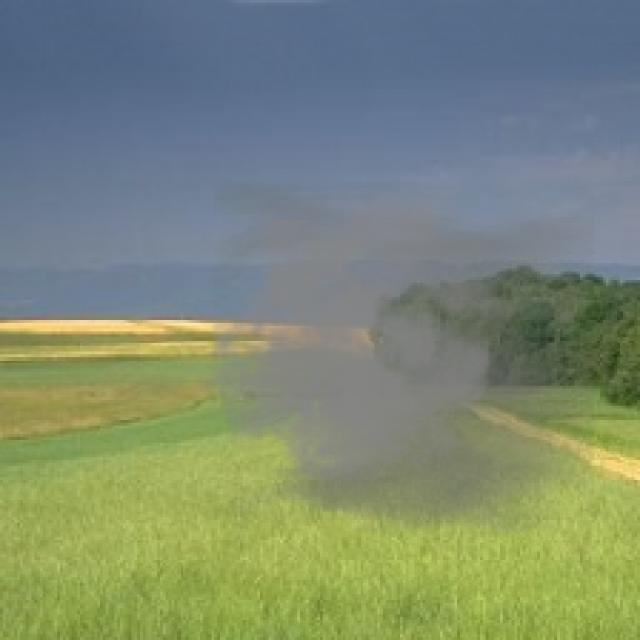smoke: (200, 180, 594, 537)
